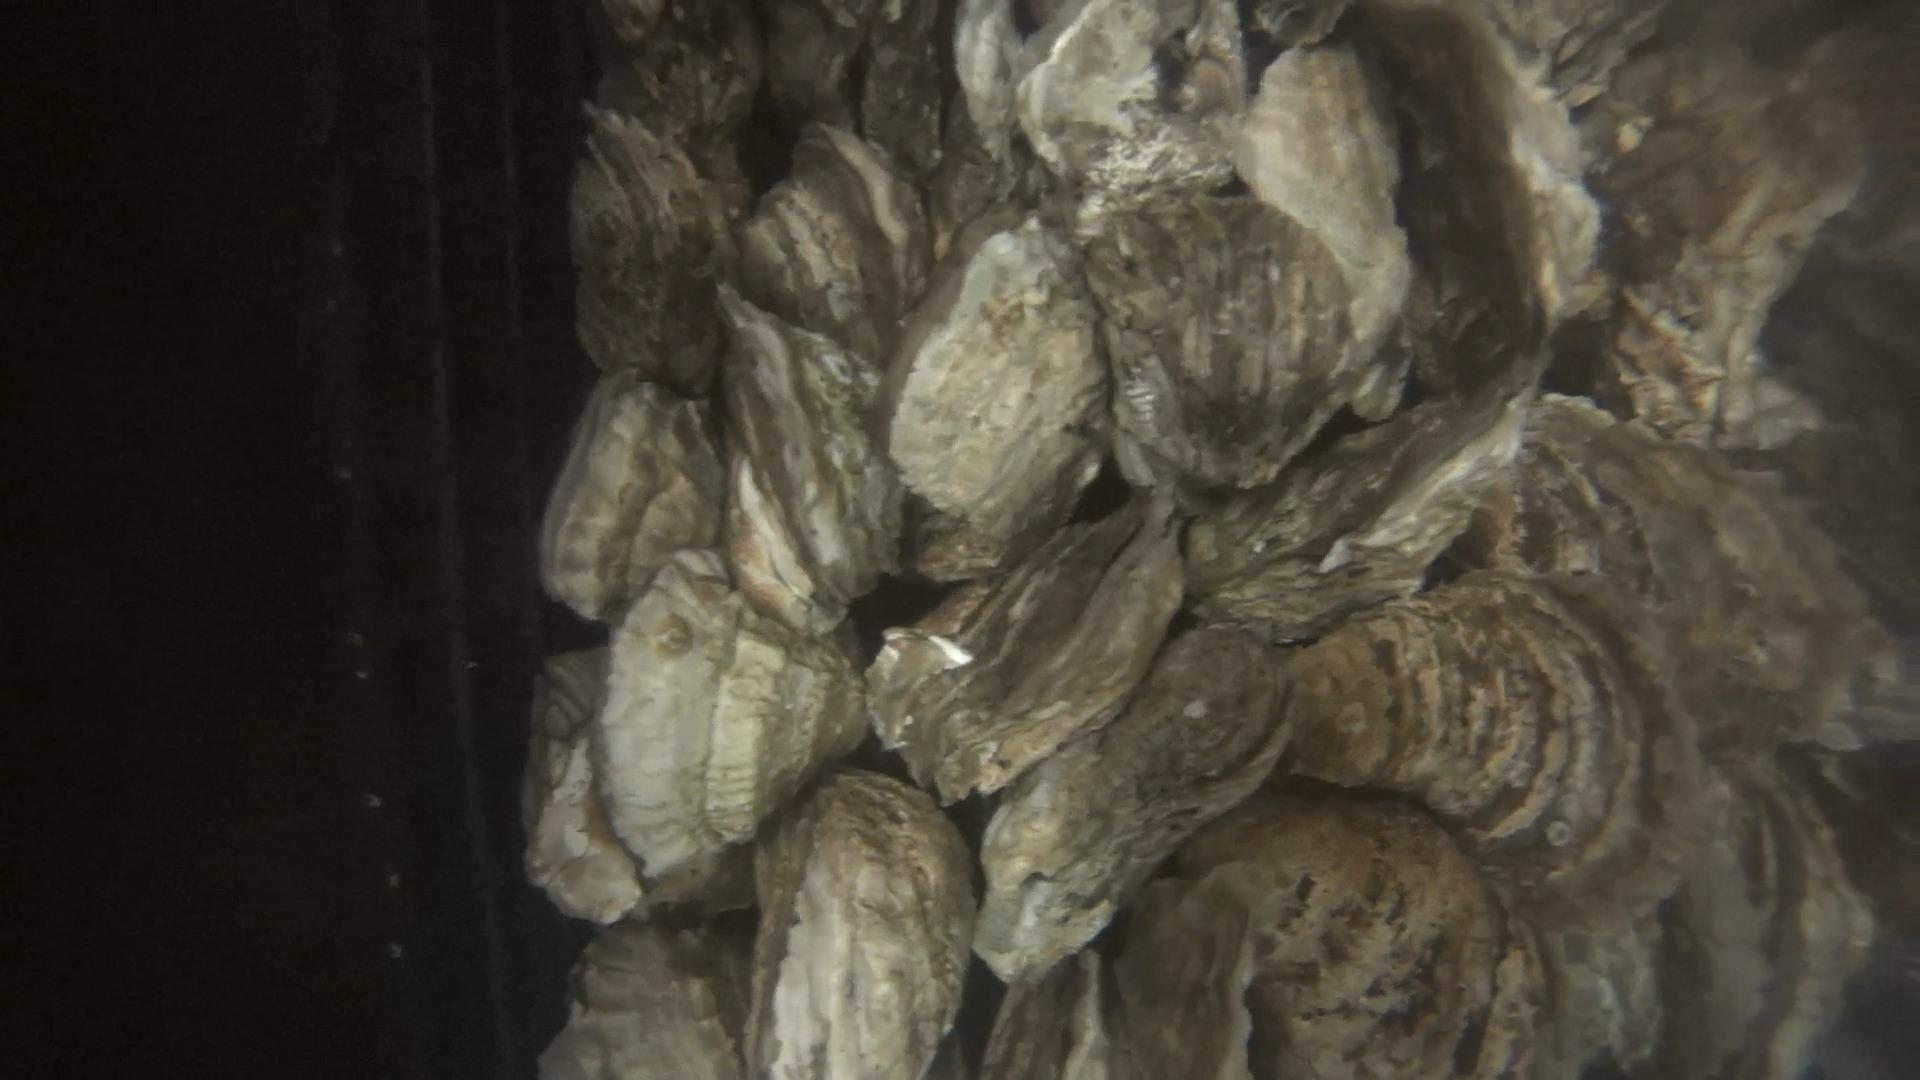Oyster- Indeterminate: (976, 618, 1300, 982), (1178, 789, 1501, 1080), (1296, 589, 1634, 857), (603, 550, 866, 880), (876, 218, 1100, 575), (1084, 194, 1349, 491), (746, 770, 976, 1080), (537, 378, 712, 628)
Oyster-Closed: (1187, 344, 1552, 647), (865, 487, 1185, 808), (717, 284, 898, 629), (570, 112, 723, 384), (746, 119, 934, 338)
